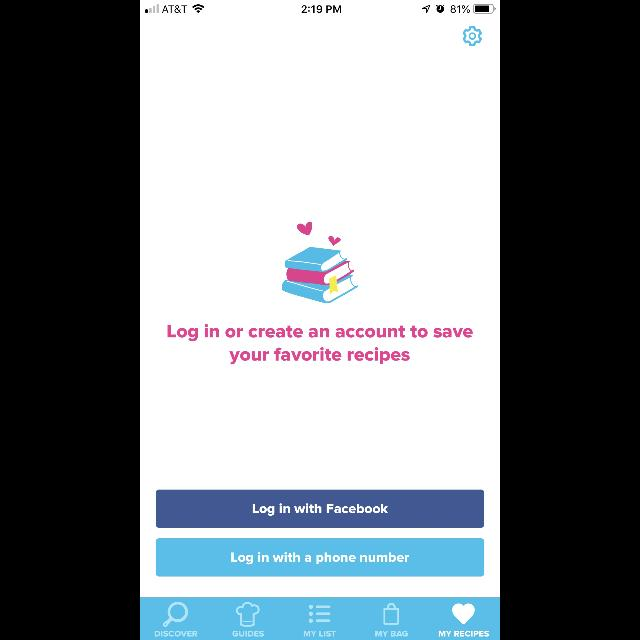icon: (164, 602, 188, 626), (452, 604, 474, 624), (462, 26, 482, 46), (309, 605, 331, 623), (383, 603, 399, 625)
image: (282, 222, 358, 304), (236, 602, 260, 626)
text: (168, 324, 472, 364), (439, 630, 489, 636), (155, 630, 197, 636), (376, 631, 408, 637), (304, 631, 336, 637), (232, 631, 264, 637)
textbutton: (156, 539, 484, 577), (156, 490, 484, 528)
uppertaskbar: (140, 0, 500, 14)
